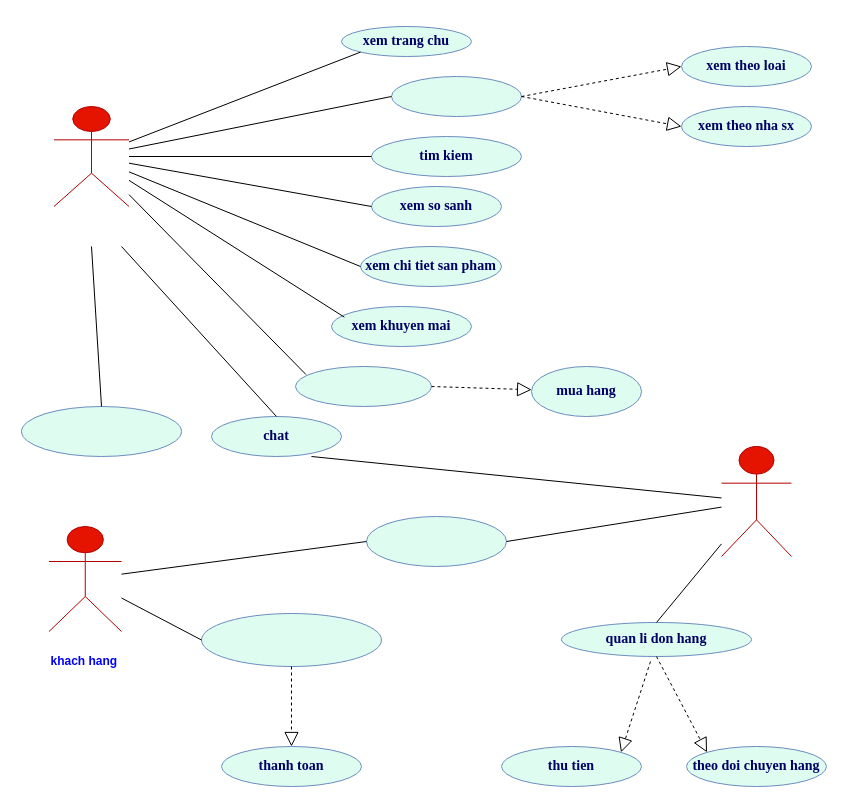
This 844x808 diagram has some shape labels left out. The shapes that lost their labels are listed below. From the top down, each one's centre as x and y in pixels, then its label:
At [456,96]: "xem san pham".
At [91,156]: "khach hang tiem nang".
At [363,386]: "quan li gio hang".
At [101,431]: "dang ki nguoi dung".
At [756,501]: "Nguoi ban hang".
At [436,541]: "Dang nhap".
At [291,639]: "quan li don hang ca nhan".
